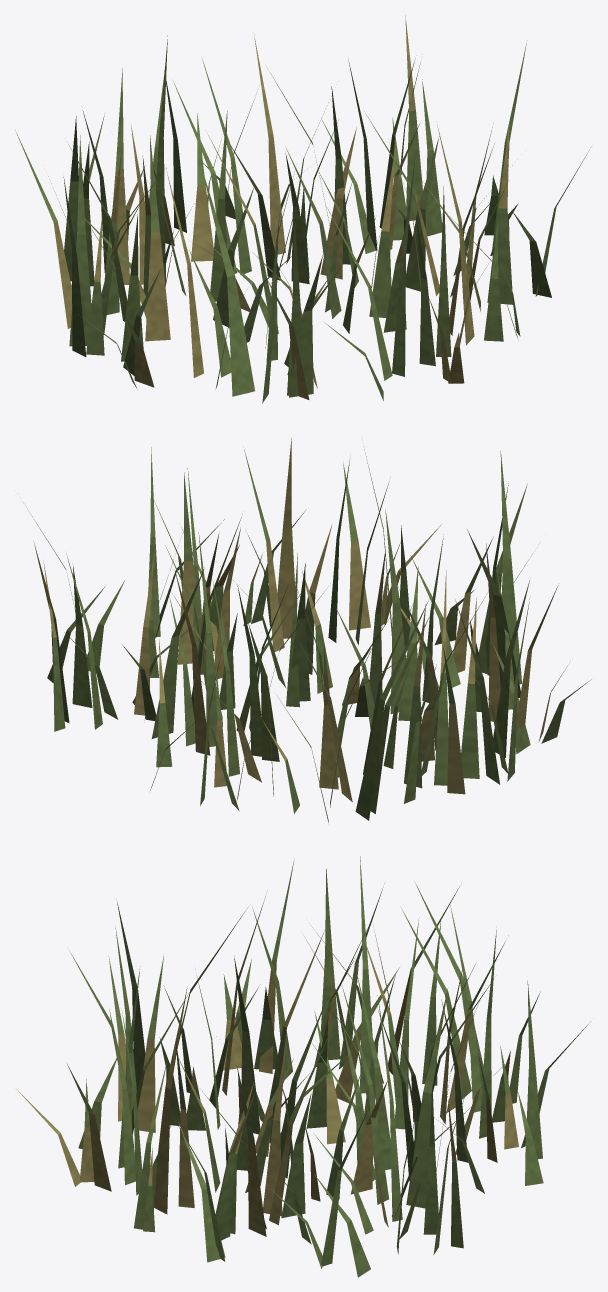
File: grass_clump.glb
3 renders of one model, top to bottom at view 1: azimuth 30°, elevation 25°; view 2: azimuth 150°, elevation 25°; view 3: azimuth 270°, elevation 25°, orthographic.
Parts seen in each view (by area): view 1: grass_clump_Mesh; view 2: grass_clump_Mesh; view 3: grass_clump_Mesh.
Boxes of the visible parts, x1=… form: grass_clump_Mesh: x1=15, y1=15, x2=589, y2=403; grass_clump_Mesh: x1=23, y1=438, x2=591, y2=822; grass_clump_Mesh: x1=16, y1=856, x2=590, y2=1277.
Size of the model in its own units: 0.8801 by 0.3577 by 0.8575.
Materials: 2 (2 with a texture image).
